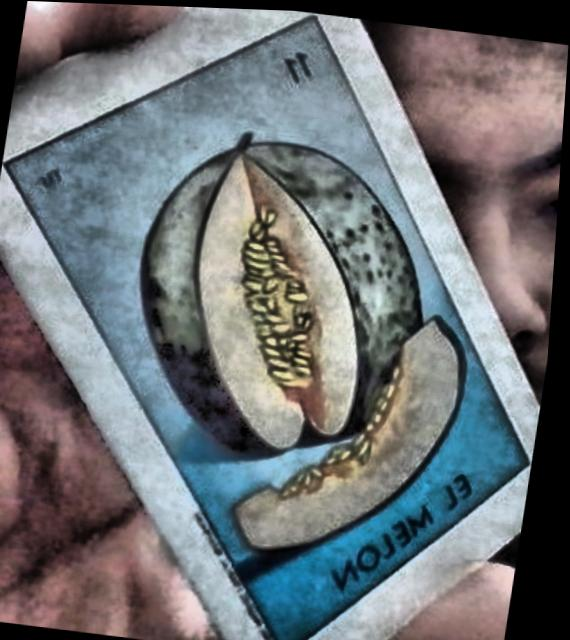El Melon: (6, 17, 536, 640)
